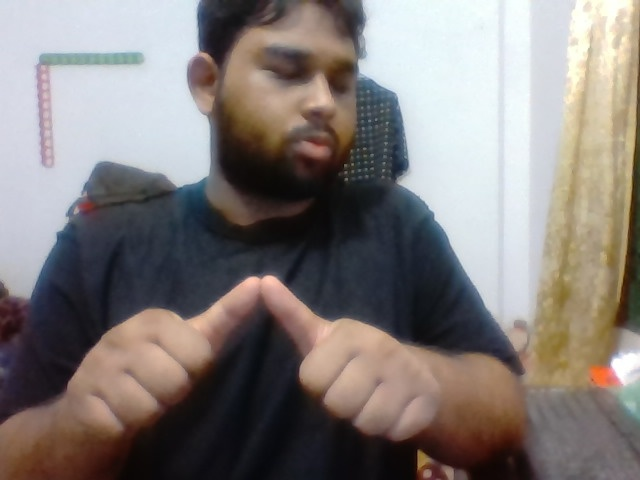A: (54, 267, 461, 467)
